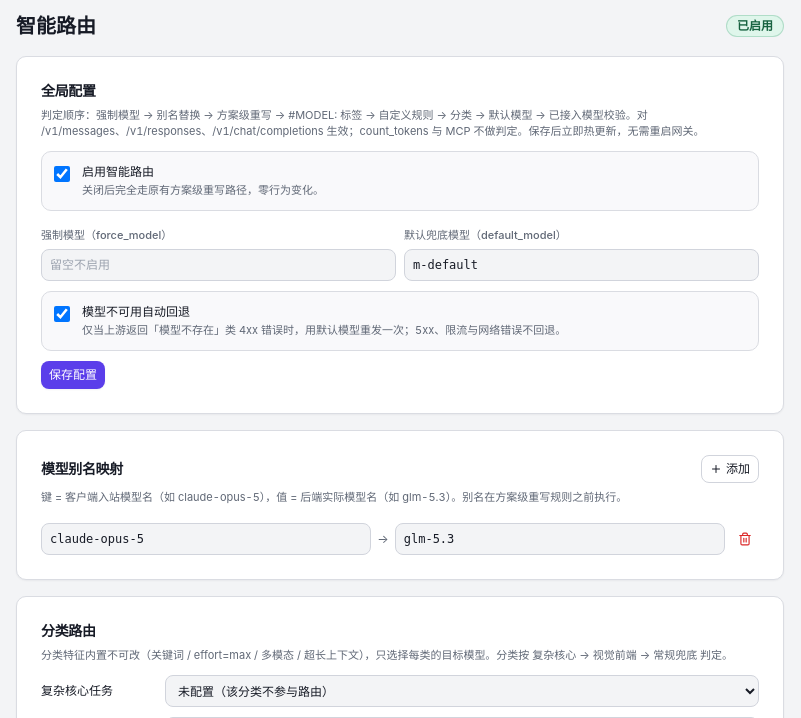
Scenario: SmartRoutePage › surfaces warnings returned by the update command
Click the button with test id "route-save-button": (73, 375) [41,361,105,389]
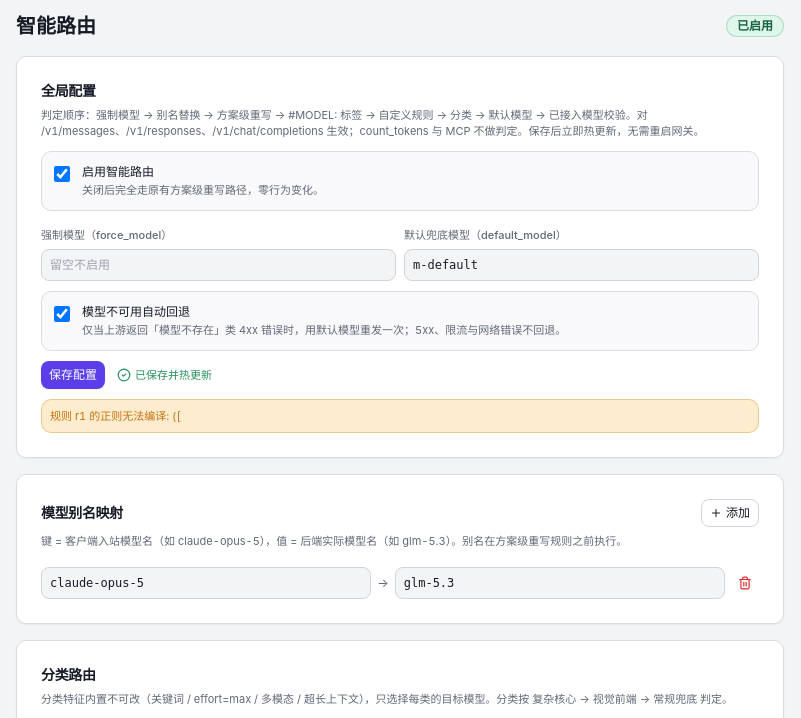
Expected: the text "规则 r1 的正则无法编译: ([" is shown, [50,409,181,423]
